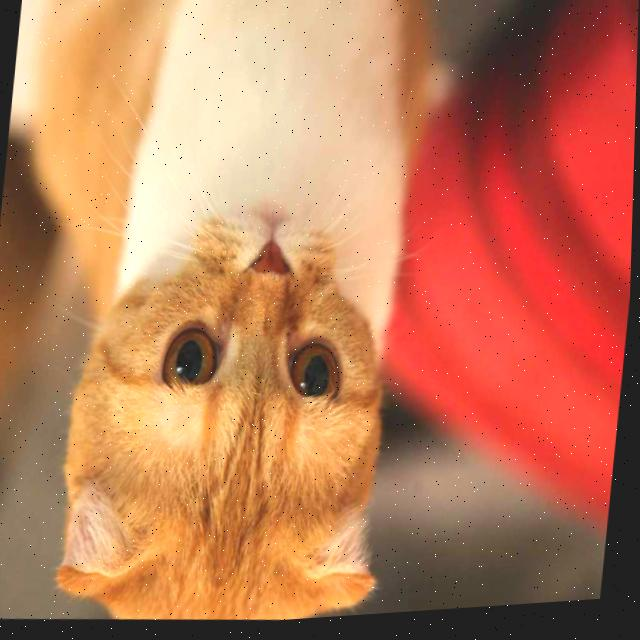Scottish Fold: (0, 0, 446, 640)
